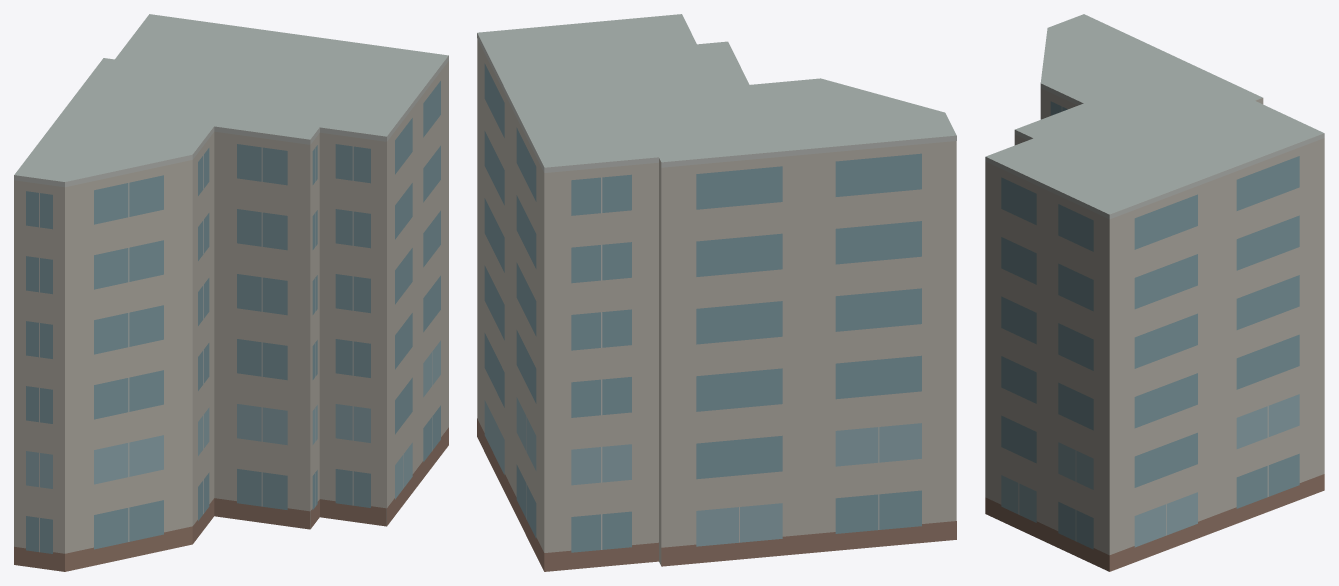
Rendered from survey-upis-33001077.glb.
The picture shows the model from 3 angles, left to right: view 1: azimuth 30°, elevation 25°; view 2: azimuth 150°, elevation 25°; view 3: azimuth 270°, elevation 25°; orthographic projection. The views are drawn at different scales.
Visible parts, largest first — view 1: survey-upis-33001077.tmp; view 2: survey-upis-33001077.tmp; view 3: survey-upis-33001077.tmp.
Boxes of the visible parts, x1=… form: survey-upis-33001077.tmp: x1=14, y1=14, x2=448, y2=571; survey-upis-33001077.tmp: x1=477, y1=14, x2=956, y2=571; survey-upis-33001077.tmp: x1=985, y1=14, x2=1324, y2=571.
Bounding box in the file's own units: 22.05 × 18.3 × 15.75.
